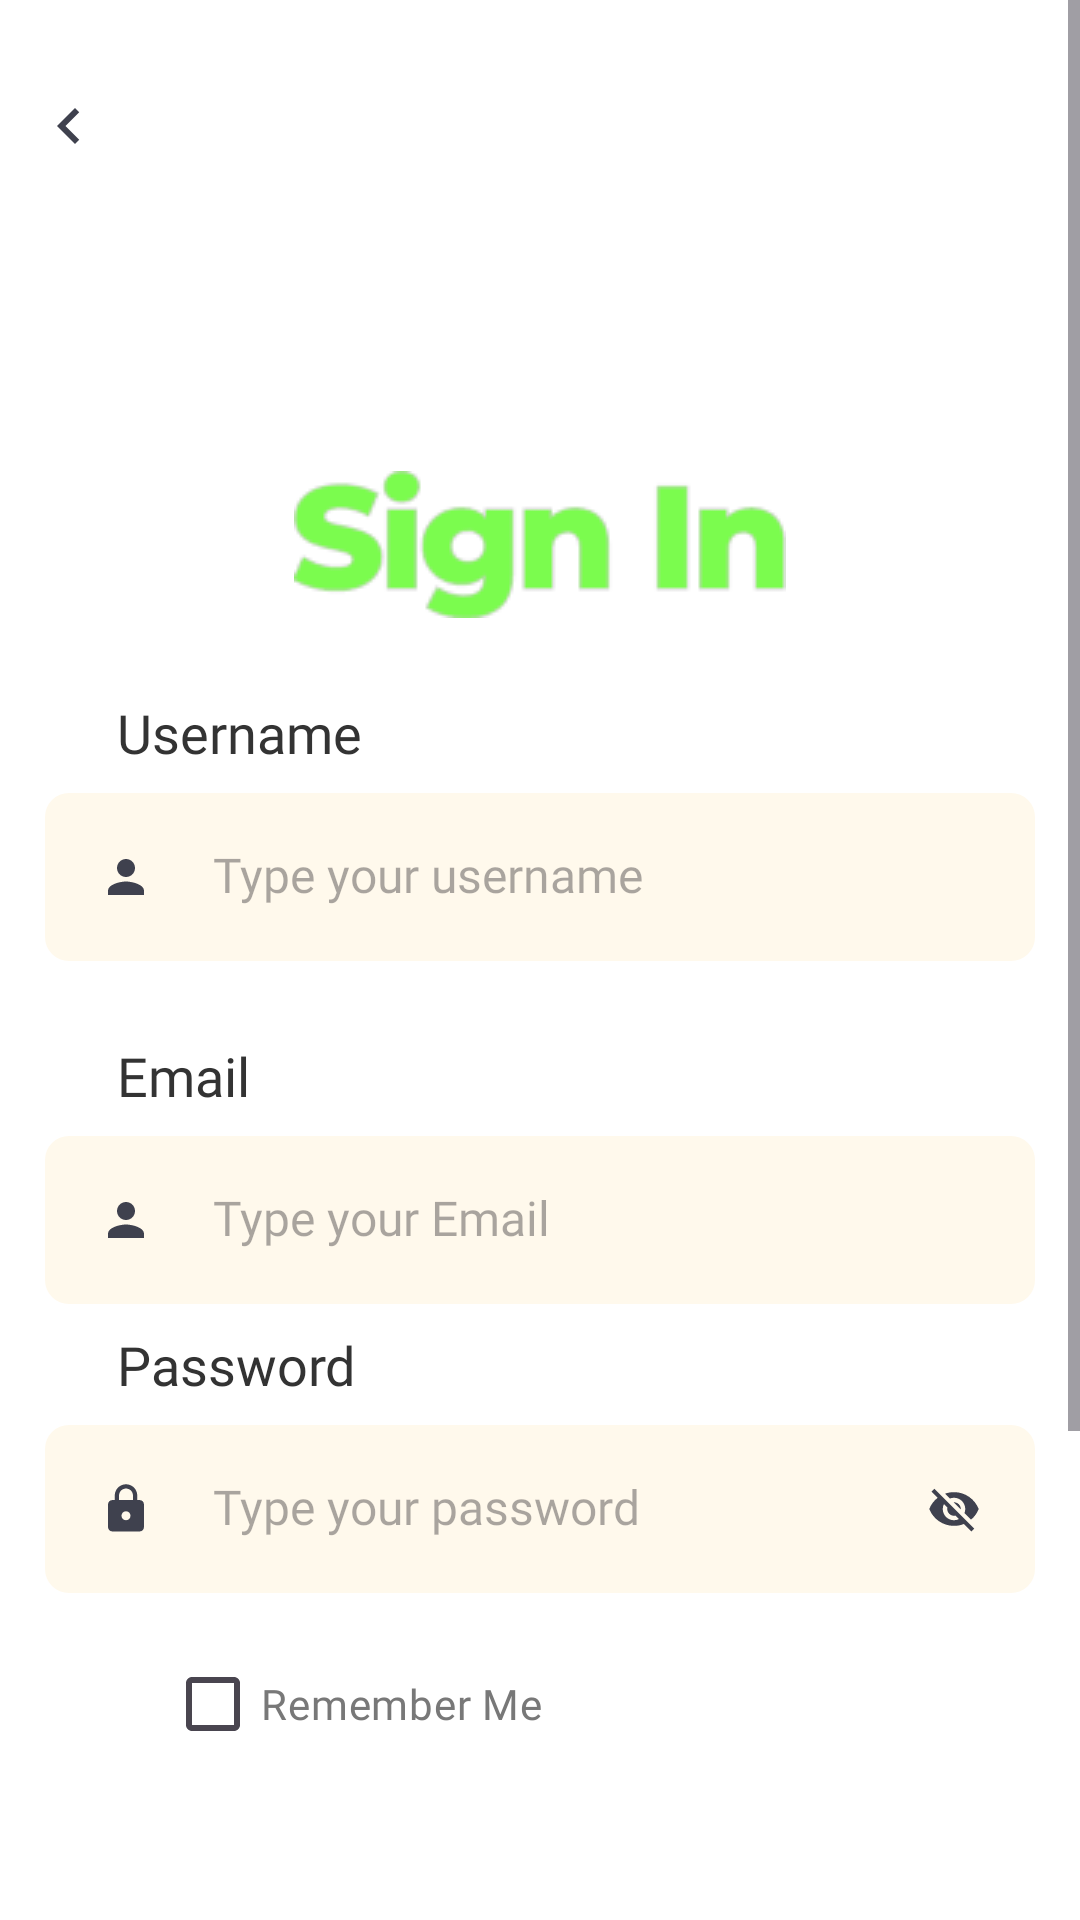

Screen size 1080 x 1920. Icon name, then its center in pixels as (x,y):
chevron left: (68,126)
